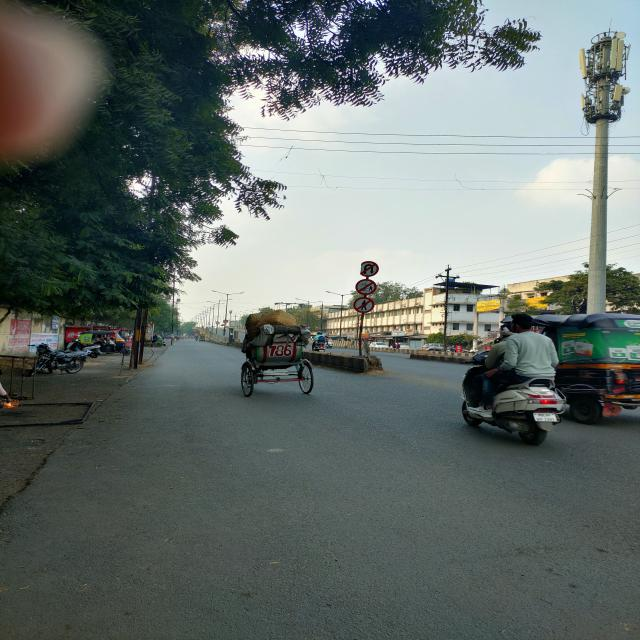railway_crossing: (355, 279, 377, 294)
